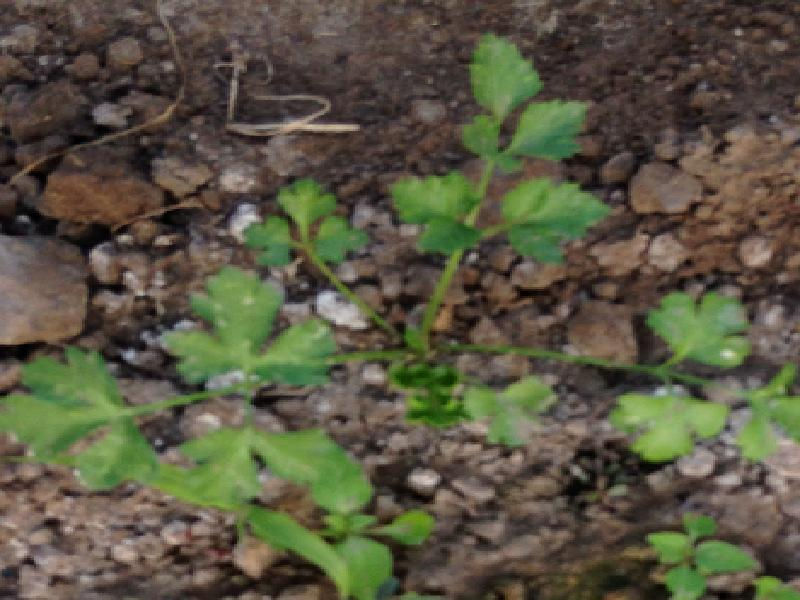radish: (46, 0, 679, 600)
